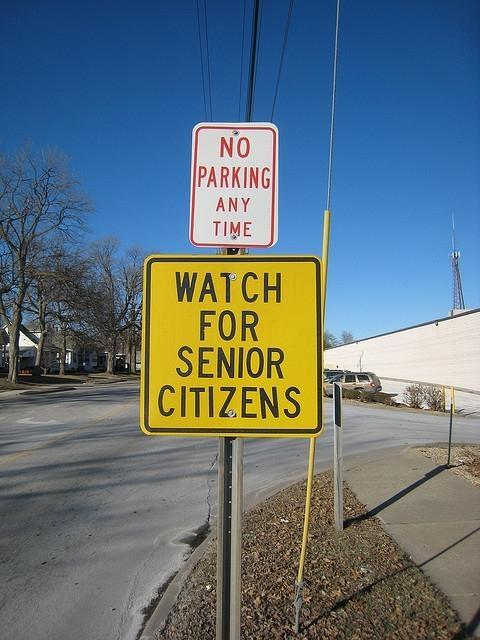truck: (323, 372, 383, 397)
